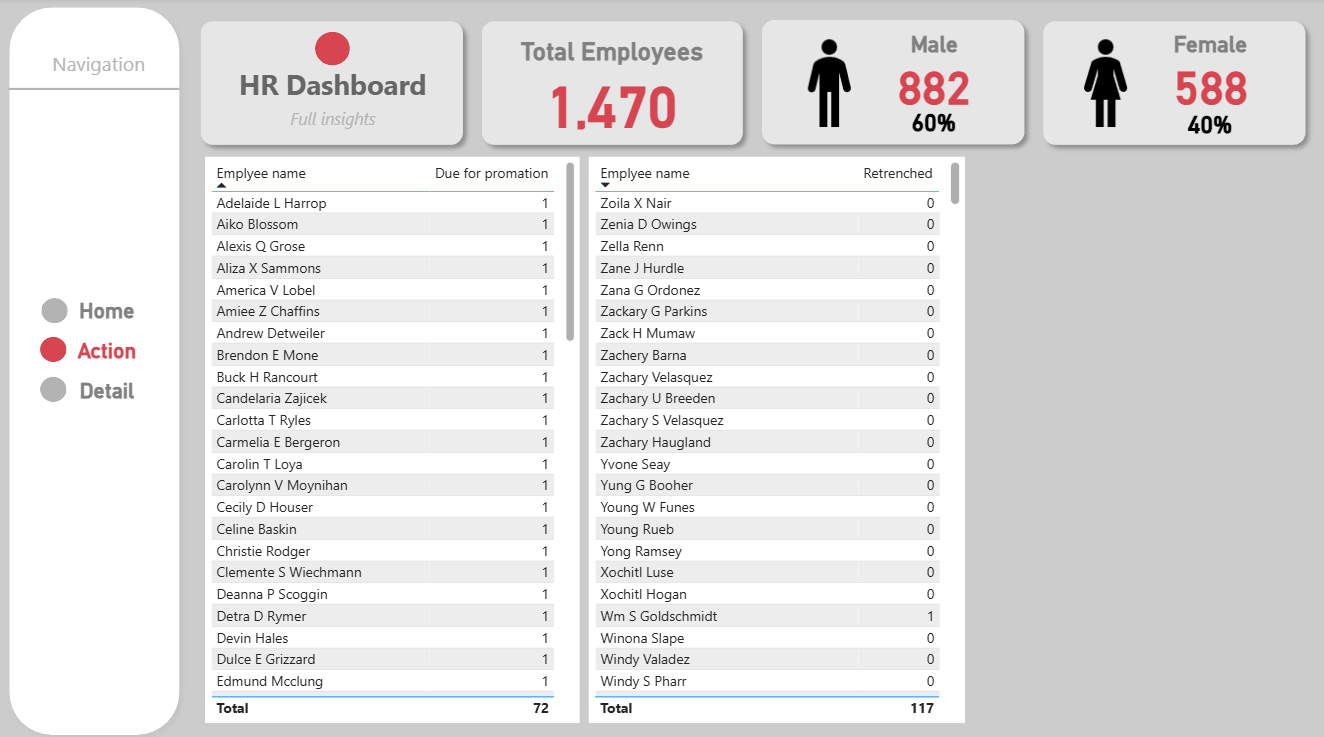

The page's visual inventory and layout, read from the dashboard file:
{"tool":"powerbi","page":{"name":" Page 2","canvas":[1280,720],"ordinal":1},"visuals":[{"type":"shape","box":[0,0,182.2,720.2],"z":0},{"type":"shape","box":[726.3,12.2,271.5,138.2],"z":1000},{"type":"shape","box":[456.2,13.8,270,137.5],"z":2000},{"type":"shape","box":[997.5,13.8,271.2,137.5],"z":3000},{"type":"shape","box":[185,13.8,271.2,137.5],"z":4000},{"type":"textbox","box":[211.2,60,220,45],"z":5000},{"type":"textbox","box":[211.5,100.3,220.1,36.7],"z":6000},{"type":"shape","box":[303.8,32,33.8,32.5],"z":7000},{"type":"card","title":"Total Employees","fields":{"Values":["Dax functions.Total Emp"]},"box":[486.2,22.5,208.8,118.8],"z":8000},{"type":"card","title":"Male","fields":{"Values":["Dax functions.Male"]},"box":[801.2,12.5,201.2,106.2],"z":9000},{"type":"card","fields":{"Values":["Dax functions.% male"]},"box":[867.5,85,67.5,66.2],"z":10000},{"type":"image","box":[1017.5,31.2,100,101.2],"z":11000},{"type":"image","box":[750,31.2,100,101.2],"z":12000},{"type":"card","title":"Female","fields":{"Values":["Dax functions.Female"]},"box":[1067.5,12.5,201.2,106.2],"z":13000},{"type":"card","fields":{"Values":["Dax functions.% female"]},"box":[1133.8,86.2,67.5,66.2],"z":14000},{"type":"tableEx","fields":{"Values":["HR Analytics Data.Emplyee name","Dax functions.Due for promation"]},"box":[198.1,152.8,361.9,546.6],"z":15000},{"type":"tableEx","fields":{"Values":["HR Analytics Data.Emplyee name","Dax functions.Retrenched"]},"box":[568.6,152.8,363.2,546.6],"z":16000},{"type":"actionButton","box":[52.6,281.2,100.3,41.6],"z":17000},{"type":"actionButton","box":[52.6,320.4,100.3,37.9],"z":18000},{"type":"actionButton","box":[52.6,360.7,100.3,35.5],"z":19000},{"type":"shape","box":[40.4,289.8,25.7,24.5],"z":20000},{"type":"shape","box":[39.1,326.5,25.7,24.5],"z":21000},{"type":"shape","box":[39.1,365.6,25.7,24.5],"z":22000},{"type":"shape","box":[8.6,66,165.1,42.8],"z":23000},{"type":"textbox","box":[8.6,45.2,173.6,39.1],"z":24000}]}

Visuals, with their boxes on the page's 1280x720 design canvas (x1, y1, x2, y2). These are canvas units, not pixel positions in the 1324x737 screenshot, which may show the page scaled, cropped or inside an application window:
shape: [0,0,182,720]
shape: [726,12,998,150]
shape: [456,14,726,151]
shape: [998,14,1269,151]
shape: [185,14,456,151]
textbox: [211,60,431,105]
textbox: [212,100,432,137]
shape: [304,32,338,64]
"Total Employees" card: [486,22,695,141]
"Male" card: [801,12,1002,119]
card - Dax functions.% male: [868,85,935,151]
image: [1018,31,1118,132]
image: [750,31,850,132]
"Female" card: [1068,12,1269,119]
card - Dax functions.% female: [1134,86,1201,152]
tableEx - HR Analytics Data.Emplyee name x Dax functions.Due for promation: [198,153,560,699]
tableEx - HR Analytics Data.Emplyee name x Dax functions.Retrenched: [569,153,932,699]
actionButton: [53,281,153,323]
actionButton: [53,320,153,358]
actionButton: [53,361,153,396]
shape: [40,290,66,314]
shape: [39,326,65,351]
shape: [39,366,65,390]
shape: [9,66,174,109]
textbox: [9,45,182,84]
